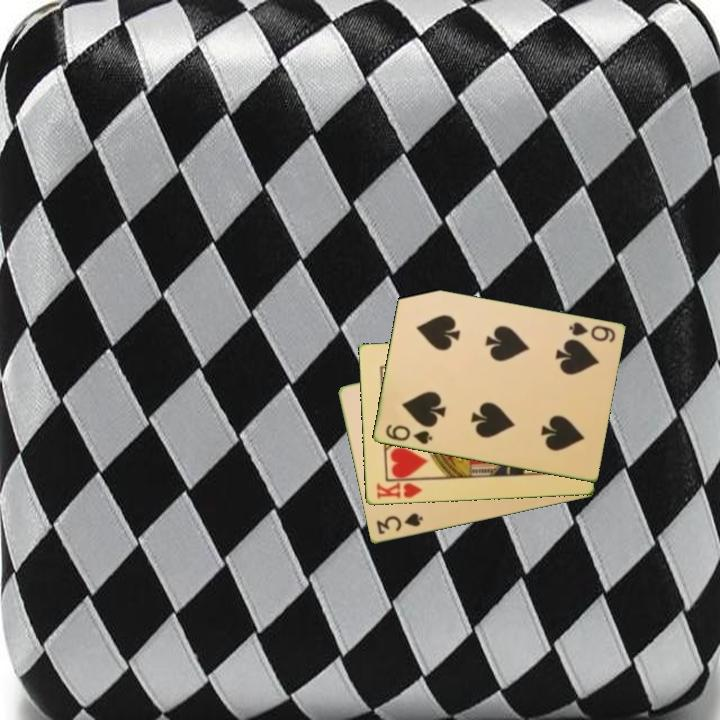3s: (372, 510, 425, 538)
6s: (382, 421, 435, 447), (565, 319, 618, 345)
Kh: (373, 476, 427, 502)
